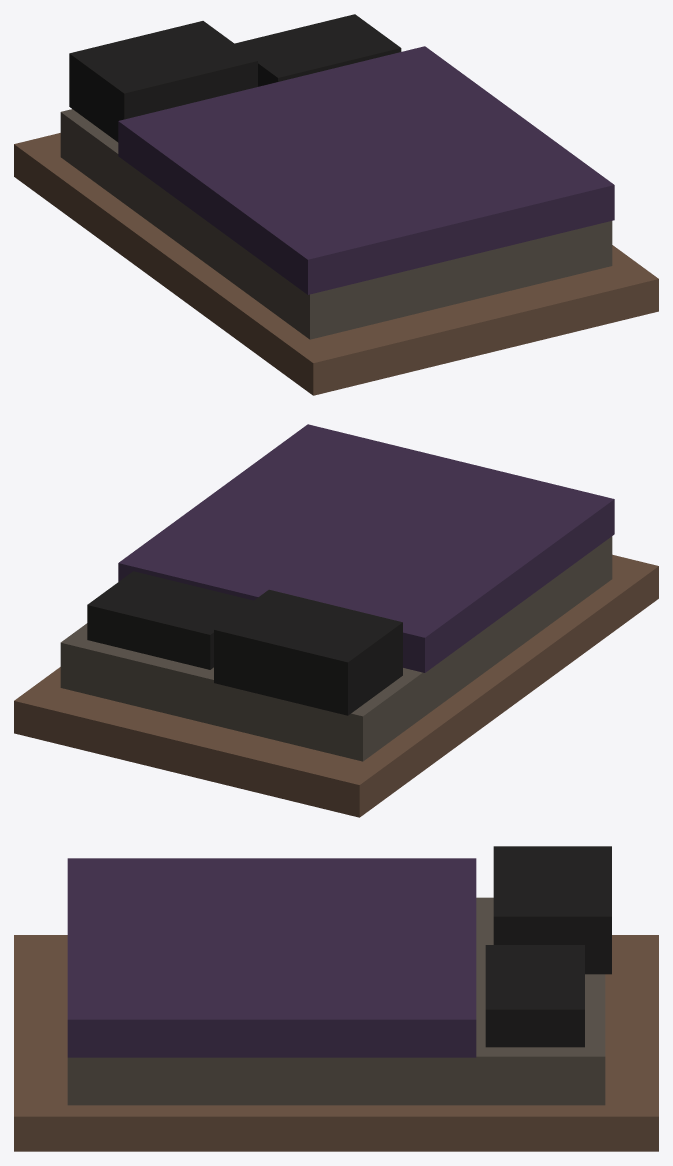
The model's file is pallet-bed.glb.
The picture shows the model from 3 angles, top to bottom: view 1: azimuth 30°, elevation 25°; view 2: azimuth 150°, elevation 25°; view 3: azimuth 270°, elevation 25°; orthographic projection. The views are drawn at different scales.
Parts seen in each view (by area): view 1: accent-purple, wood, fabric, rubber; view 2: accent-purple, wood, rubber, fabric; view 3: accent-purple, wood, fabric, rubber.
Part boxes in pixels (bbox=[...]): accent-purple: bbox=[118, 46, 614, 294]; wood: bbox=[14, 133, 658, 395]; fabric: bbox=[60, 109, 612, 339]; rubber: bbox=[69, 14, 401, 142]; accent-purple: bbox=[118, 424, 614, 672]; wood: bbox=[14, 554, 658, 817]; rubber: bbox=[87, 571, 402, 715]; fabric: bbox=[60, 536, 612, 761]; accent-purple: bbox=[67, 858, 476, 1057]; wood: bbox=[14, 935, 658, 1151]; fabric: bbox=[67, 897, 605, 1105]; rubber: bbox=[485, 846, 611, 1047].
Bounding box in the file's own units: 1.6 × 0.58 × 2.4.
